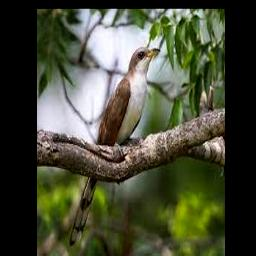Cuckoo: (69, 46, 161, 246)
